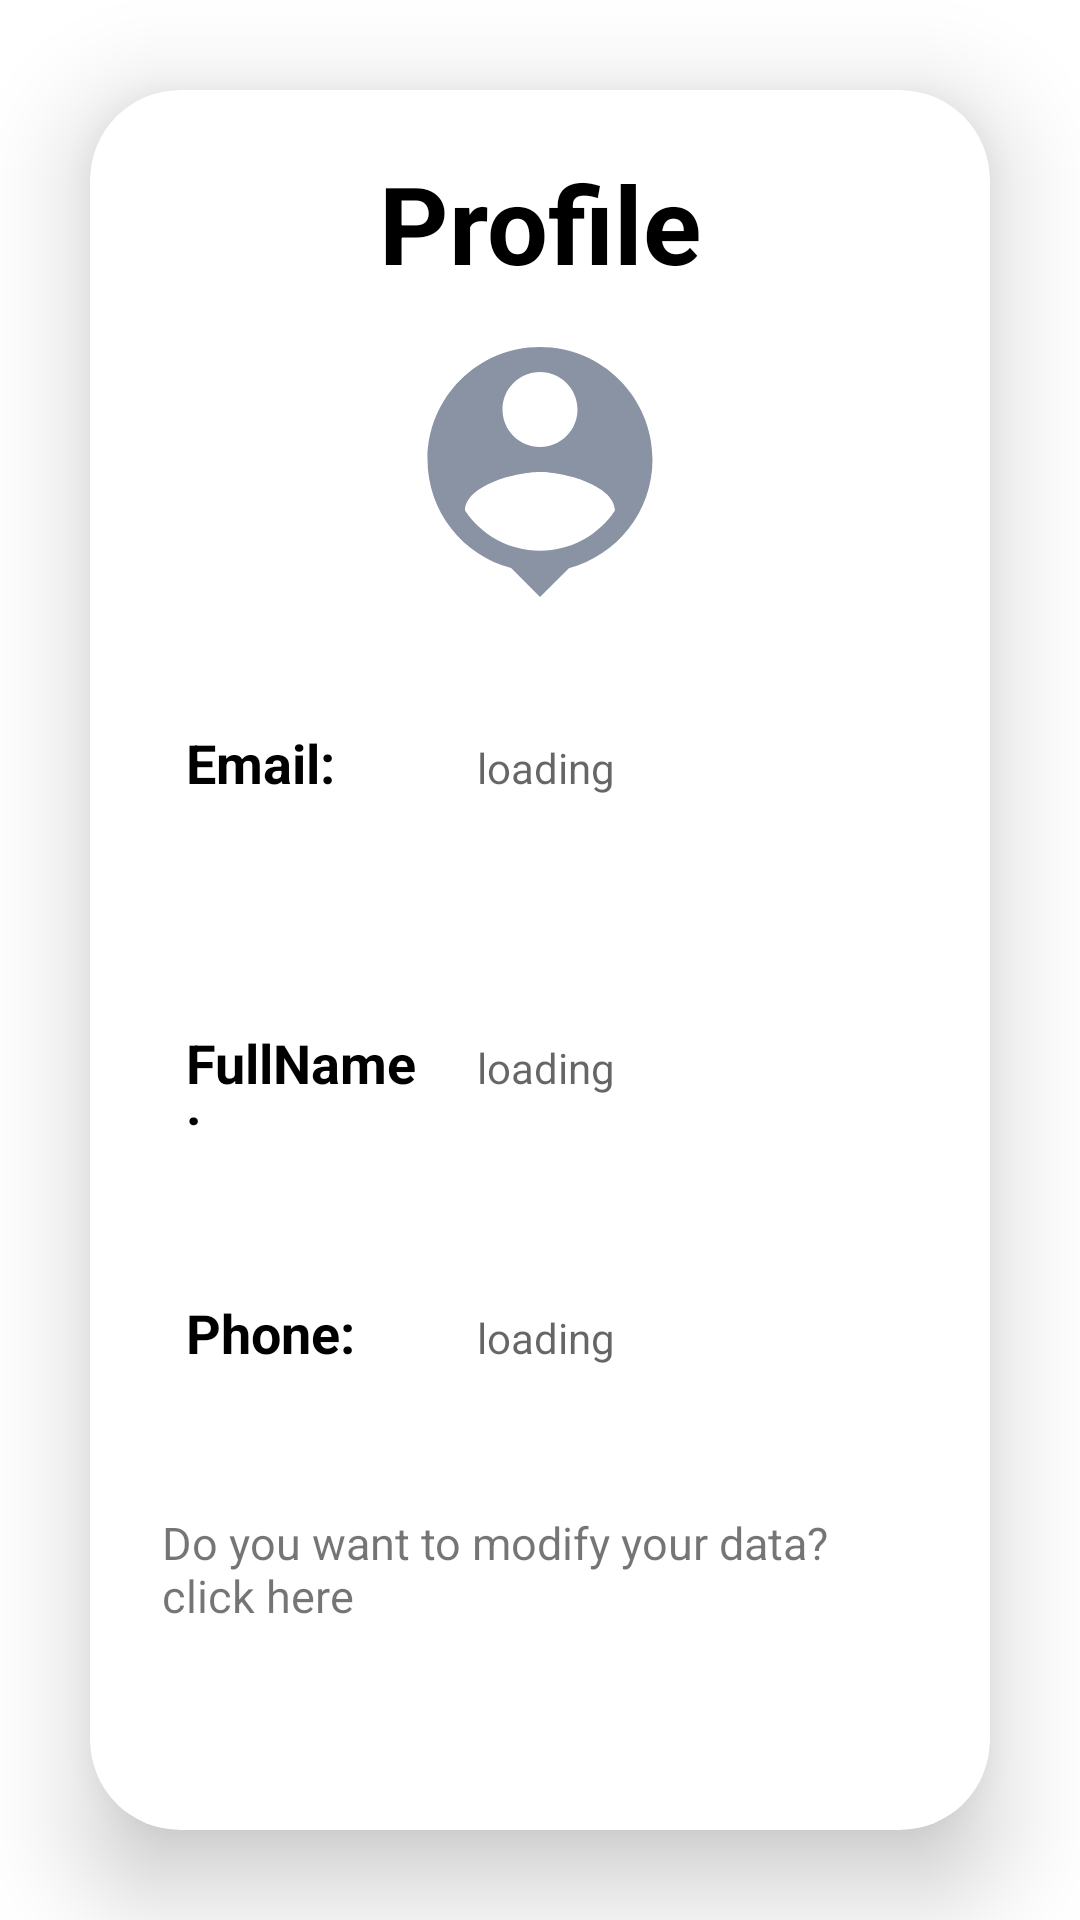

Screen size 1080*1920. Icon name, then its box in pixels as (x1=x1, y1=y1, x2=x2, y2=y2):
person: (x1=427, y1=347, x2=653, y2=597)
